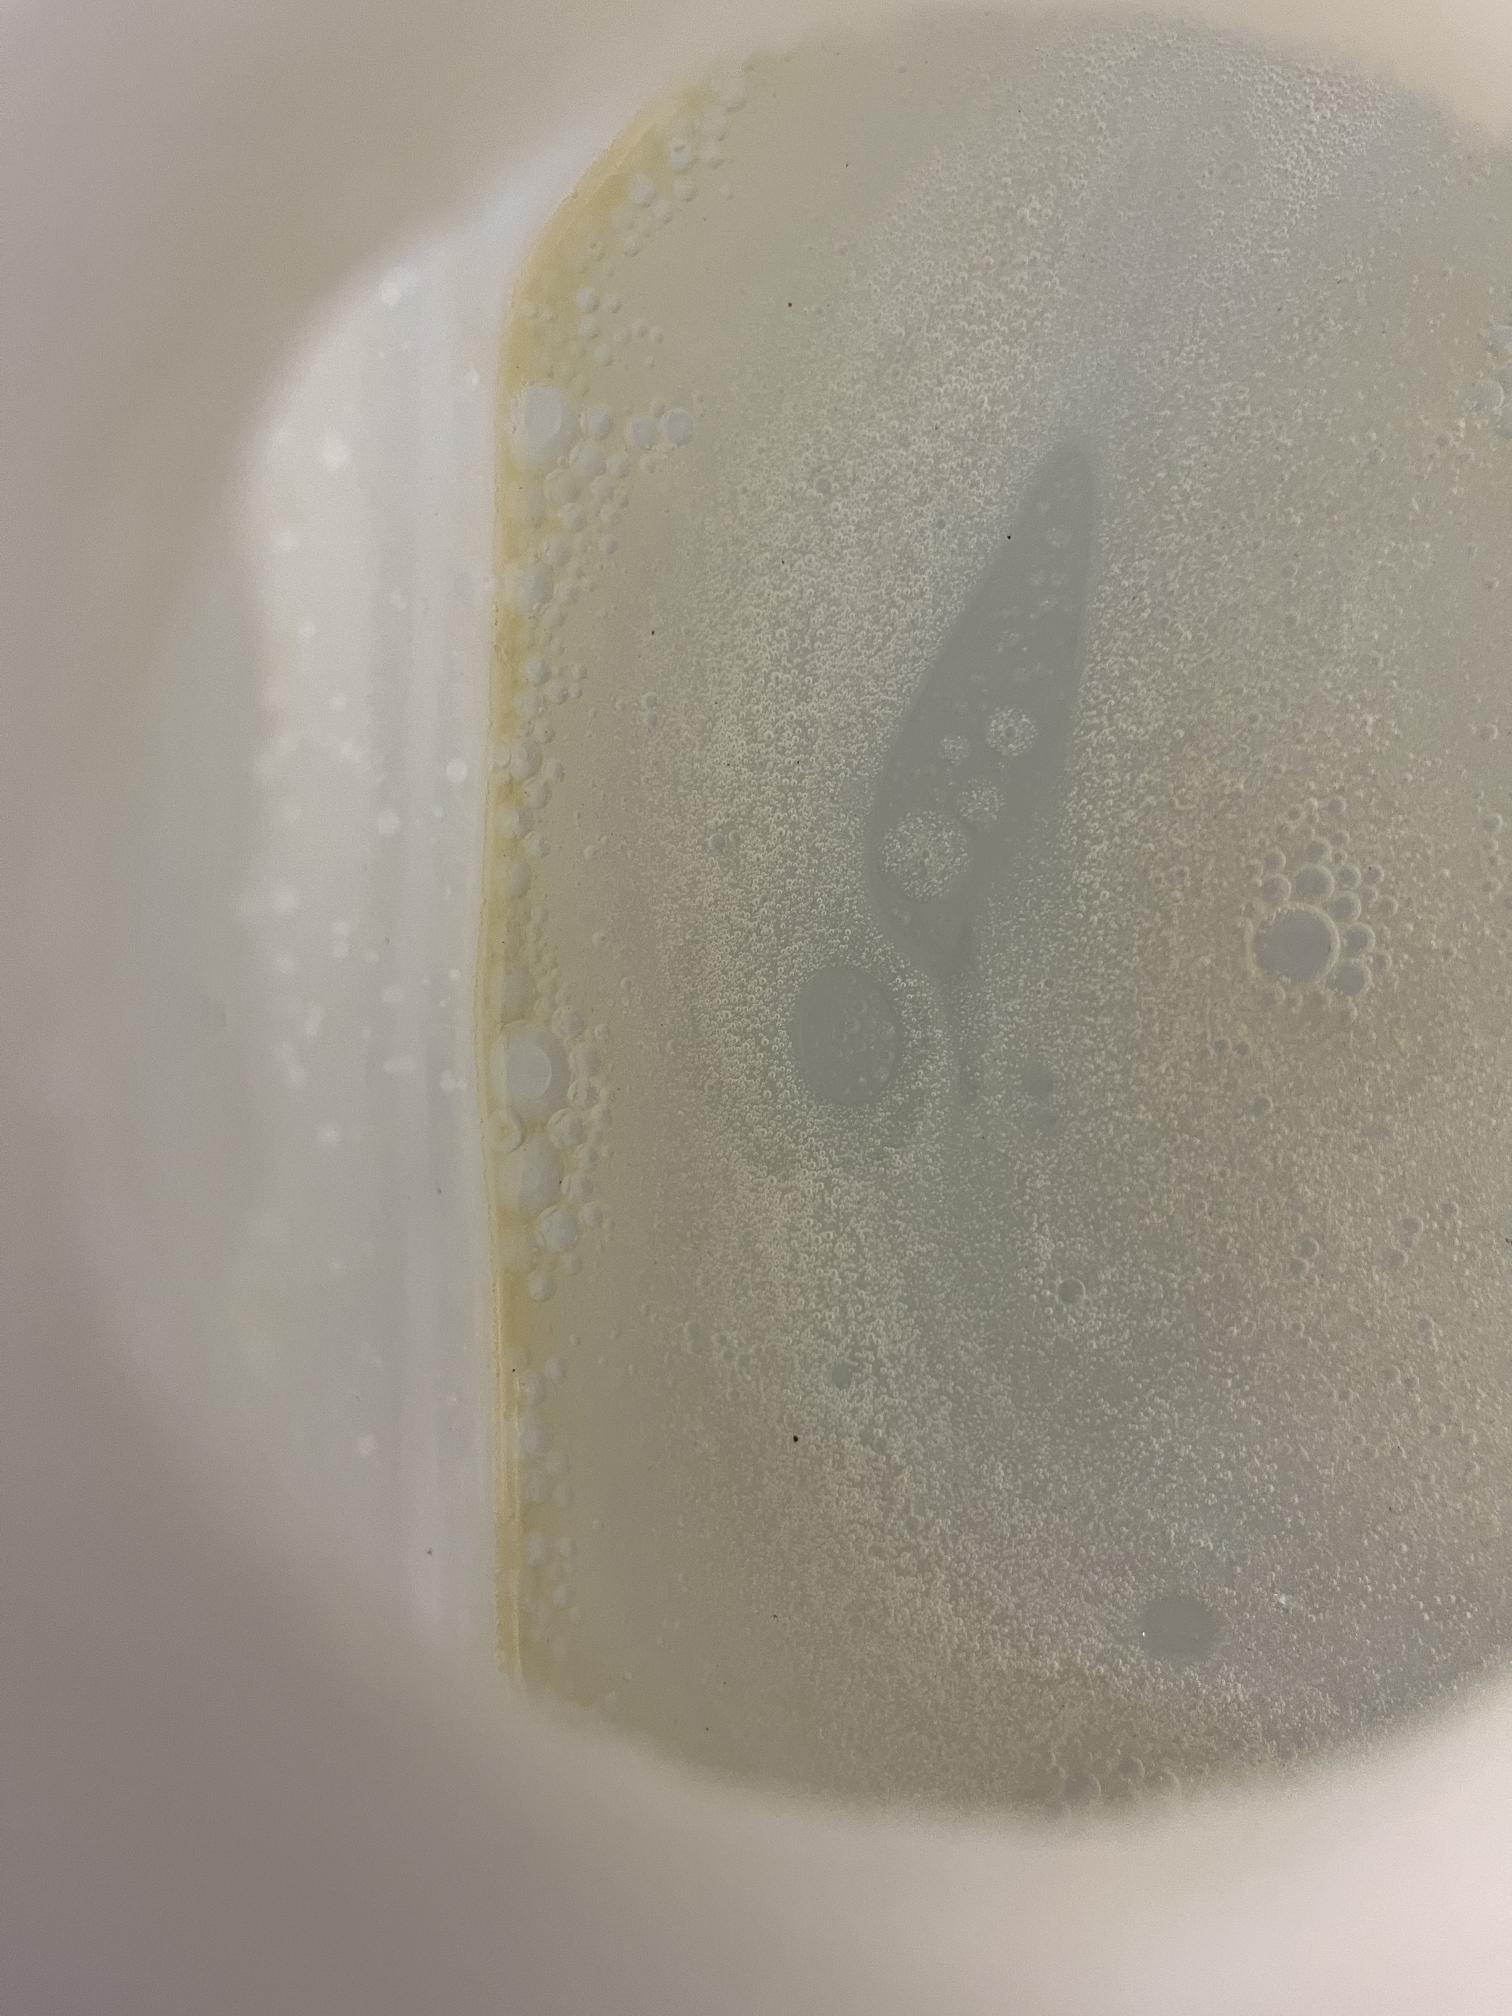Presenca de Oleo - - 80ml: (275, 40, 1436, 1860)
